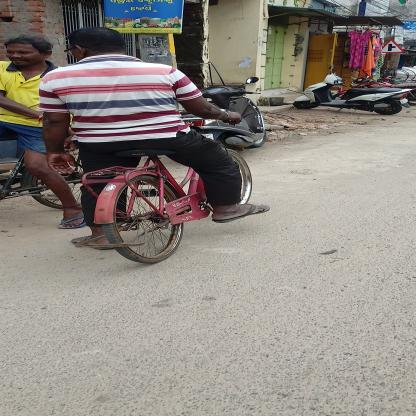bike: (16, 110, 297, 270)
